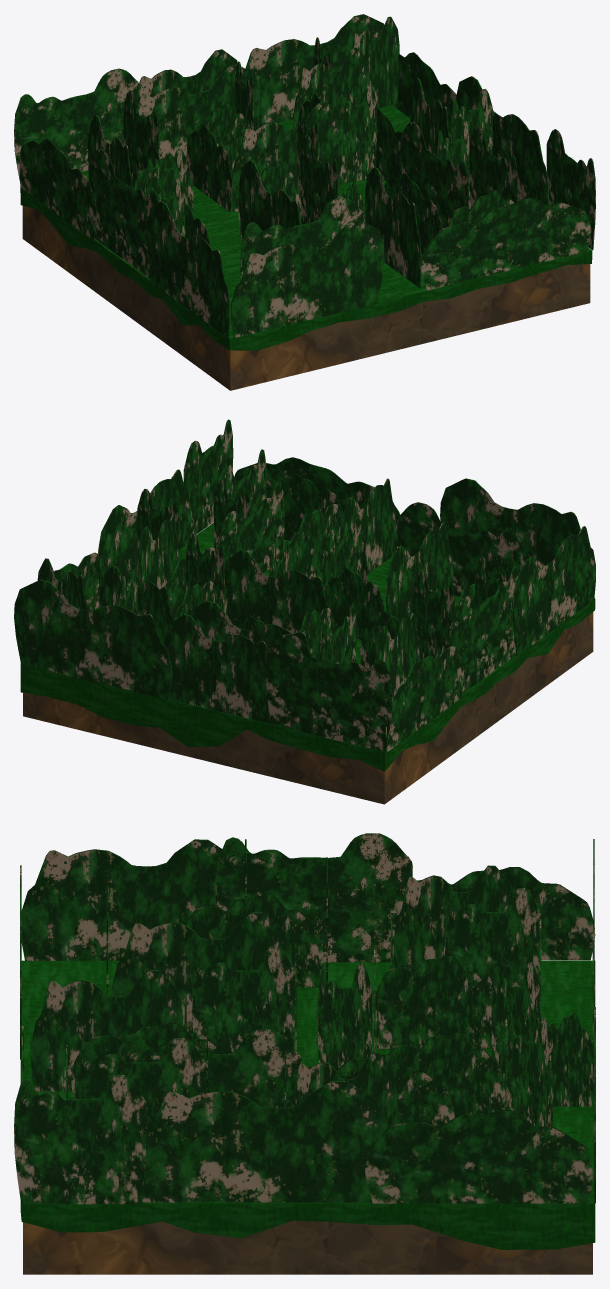
The model's file is SM_Labyrinth_level.fbx.
The picture shows the model from 3 angles, top to bottom: view 1: azimuth 30°, elevation 25°; view 2: azimuth 150°, elevation 25°; view 3: azimuth 270°, elevation 25°; orthographic projection. The views are drawn at different scales.
Parts seen in each view (by area): view 1: ground; view 2: ground; view 3: ground.
Boxes of the visible parts, x1,y1,x2,y2 form: ground: (14, 14, 595, 390); ground: (14, 419, 595, 804); ground: (14, 833, 595, 1274).
Bounding box in the file's own units: 779 × 292 × 762.
